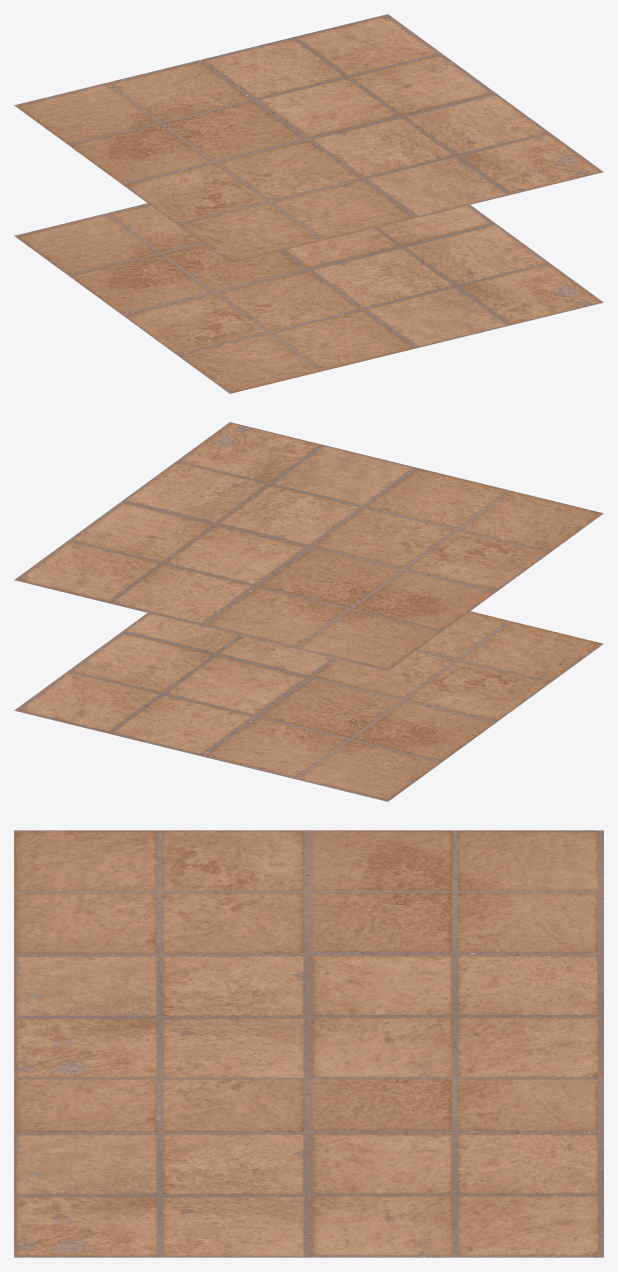
Rendered from SM_Floor_TwoSided.fbx.
3 renders of one model, top to bottom at view 1: azimuth 30°, elevation 25°; view 2: azimuth 150°, elevation 25°; view 3: azimuth 270°, elevation 25°, orthographic. The views are drawn at different scales.
Parts seen in each view (by area): view 1: SM_Floor_TwoSided_LOD0; view 2: SM_Floor_TwoSided_LOD0; view 3: SM_Floor_TwoSided_LOD0.
Boxes of the visible parts, <box> form: SM_Floor_TwoSided_LOD0: <box>14,14,603,393</box>; SM_Floor_TwoSided_LOD0: <box>14,422,603,801</box>; SM_Floor_TwoSided_LOD0: <box>14,830,603,1257</box>.
Size of the model in its own units: 300 by 300 by 100.
